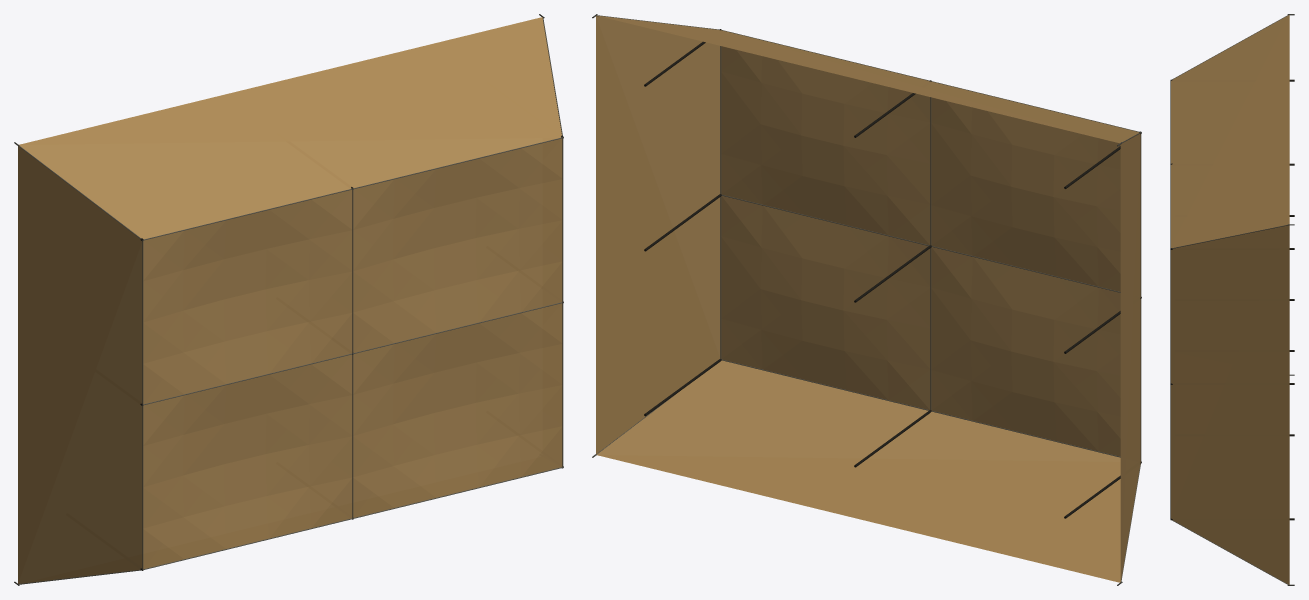
File: camel_type_ii_40x50_cm.obj
3 renders of one model, left to right at view 1: azimuth 30°, elevation 25°; view 2: azimuth 150°, elevation 25°; view 3: azimuth 270°, elevation 25°, orthographic. The views are drawn at different scales.
Parts seen in each view (by area): view 1: Camel_Solar_Shade_Type_II_40x50; view 2: Camel_Solar_Shade_Type_II_40x50; view 3: Camel_Solar_Shade_Type_II_40x50.
Boxes of the visible parts, x1,y1,x2,y2 form: Camel_Solar_Shade_Type_II_40x50: (14,14,563,585); Camel_Solar_Shade_Type_II_40x50: (592,14,1141,585); Camel_Solar_Shade_Type_II_40x50: (1170,14,1294,585).
Bounding box in the file's own units: 1524 × 1219 × 381.
